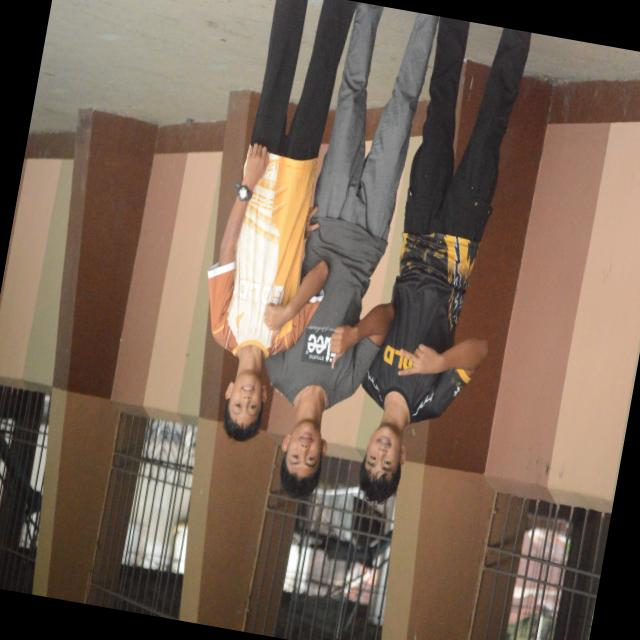person: (266, 3, 437, 497), (359, 17, 529, 501), (207, 0, 355, 440)
